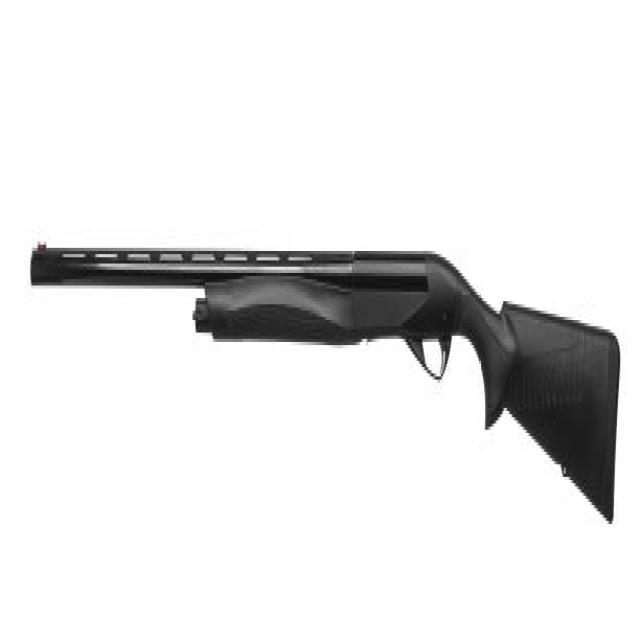rifle: (26, 208, 628, 536)
